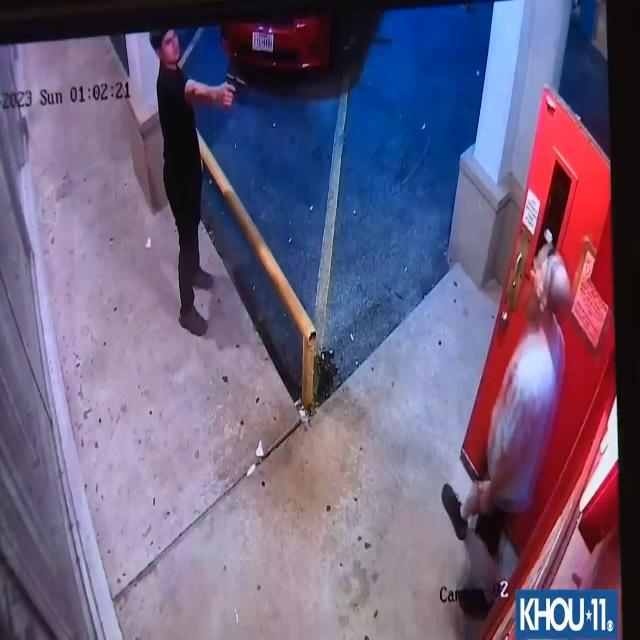penembakan: (148, 27, 252, 345)
